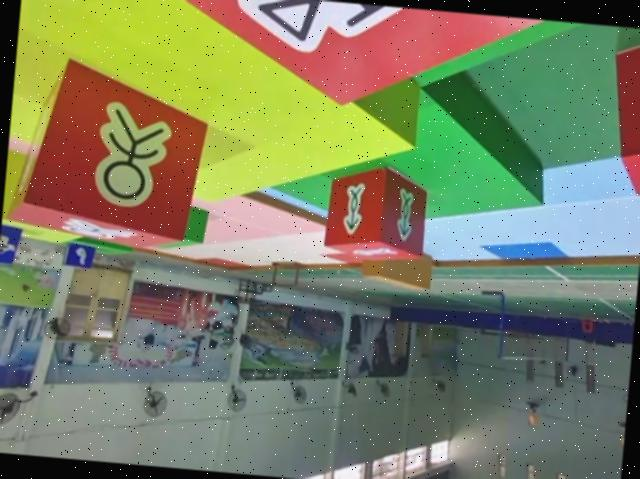R2 Real: (126, 0, 570, 127), (0, 50, 218, 259), (319, 160, 433, 266)
